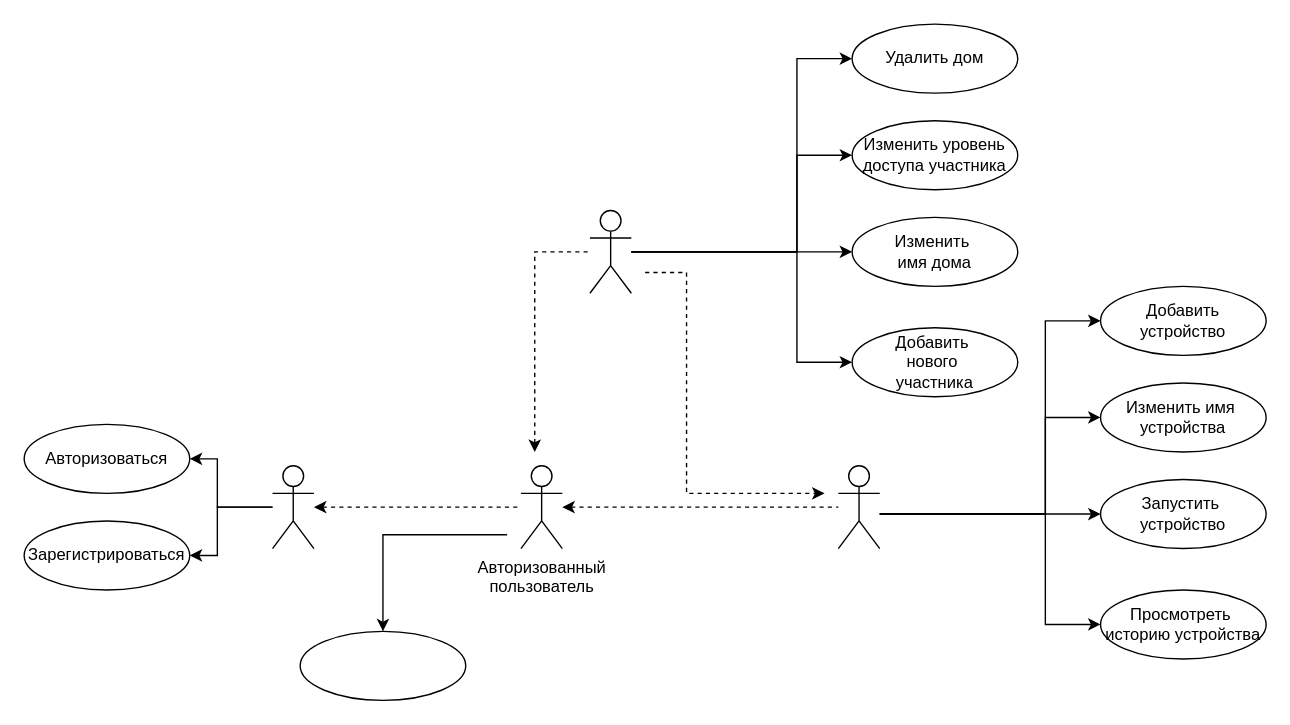
This 1290x725 diagram has some shape labels left out. Here are the shapes that lost their labels. From the top down, the centre of each, then its label:
point 610,251: Владелец дома
point 292,506: Гость
point 858,506: Участник дома
point 382,665: Создать дом
